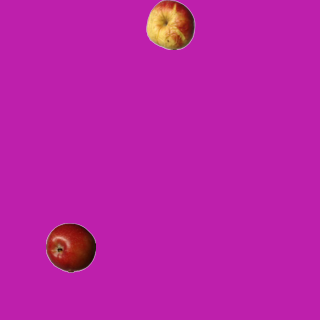Apple Braeburn: (45, 222, 95, 272)
Apple Red Yellow 1: (145, 0, 195, 49)
